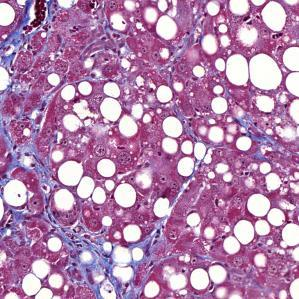fibrosis: (42, 200, 123, 275)
